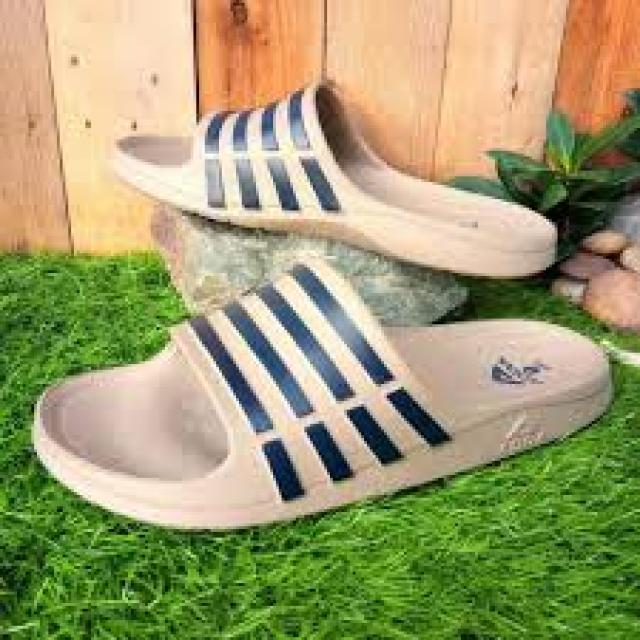shoe: (33, 86, 610, 536), (30, 255, 612, 536), (100, 79, 563, 289)
